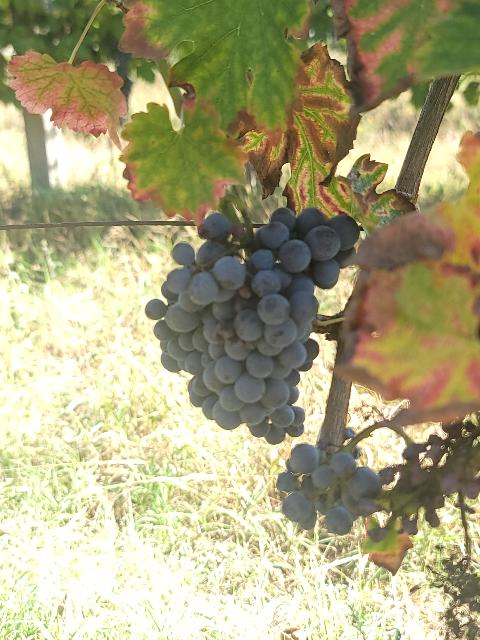grapes: (146, 208, 360, 444), (276, 444, 382, 535)
